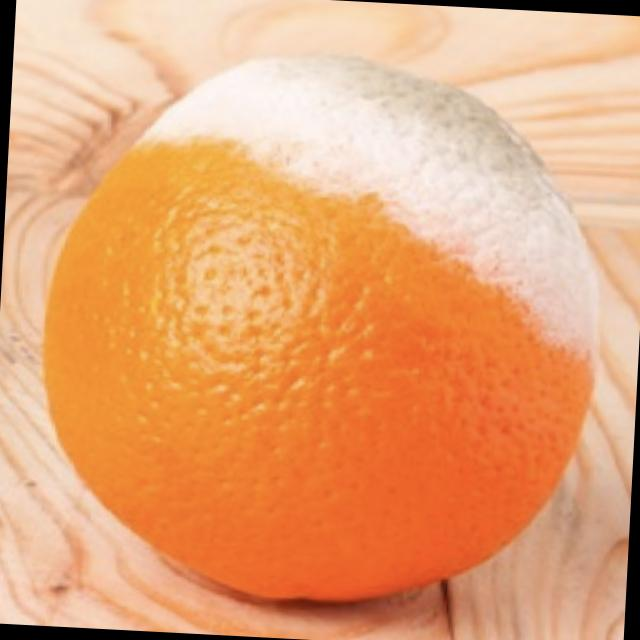rotten-orange: (34, 49, 610, 615)
